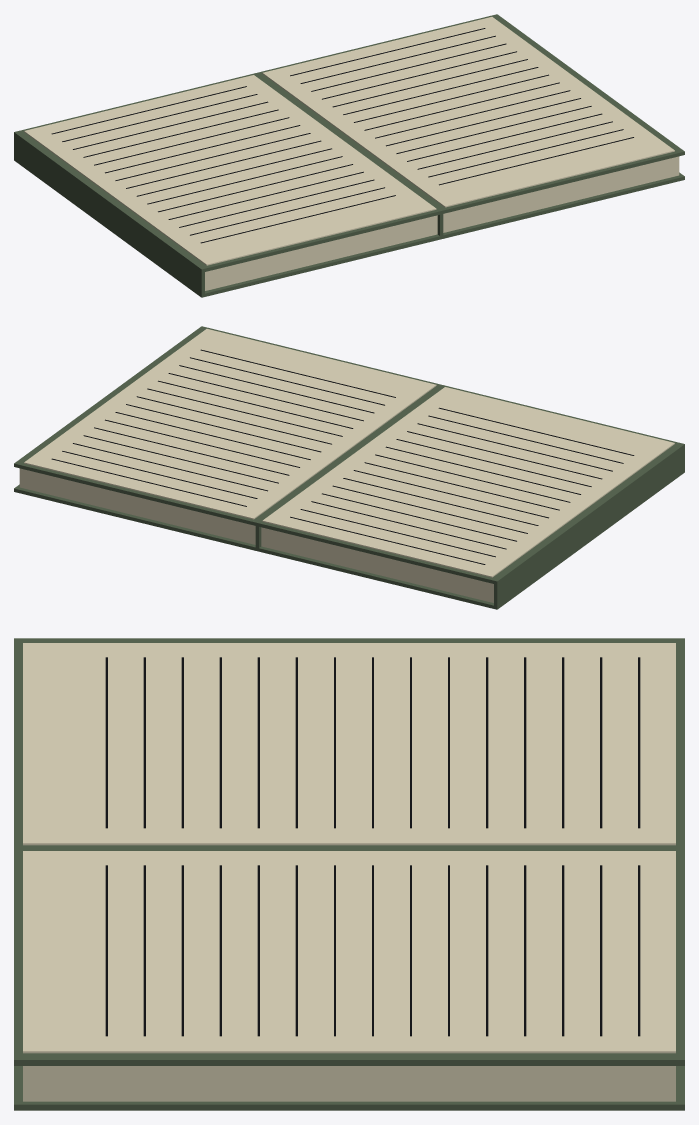
The model's file is Konyv_nyitott.obj.
3 renders of one model, top to bottom at view 1: azimuth 30°, elevation 25°; view 2: azimuth 150°, elevation 25°; view 3: azimuth 270°, elevation 25°, orthographic. The views are drawn at different scales.
Size of the model in its own units: 0.446 by 0.0263 by 0.3.
